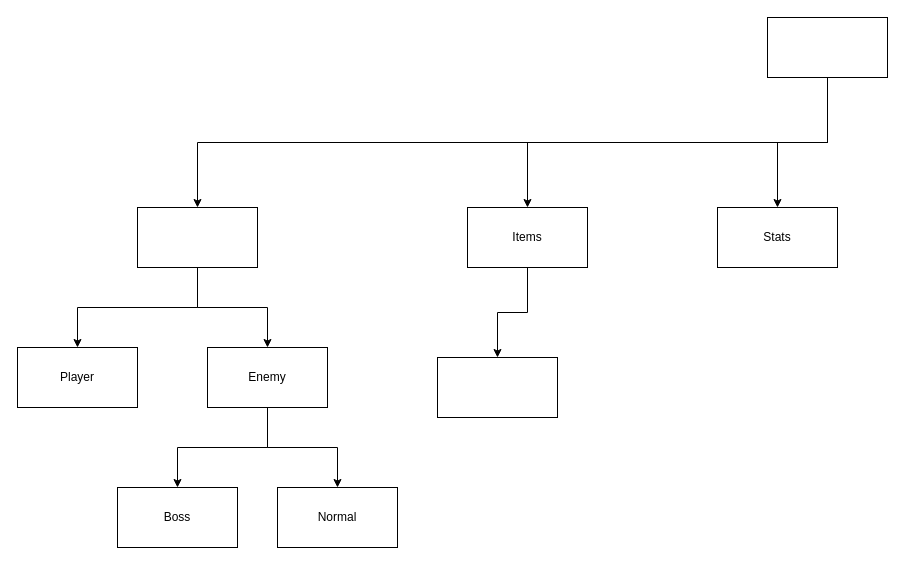
Some shapes in this 905 by 565 pixel diagram are drawn without their labels. Here are the shapes that lost their labels. From the top down, the box of each, then its label:
(766, 16, 888, 78): The Dominion
(136, 206, 258, 268): Character
(436, 356, 558, 418): Weapons
